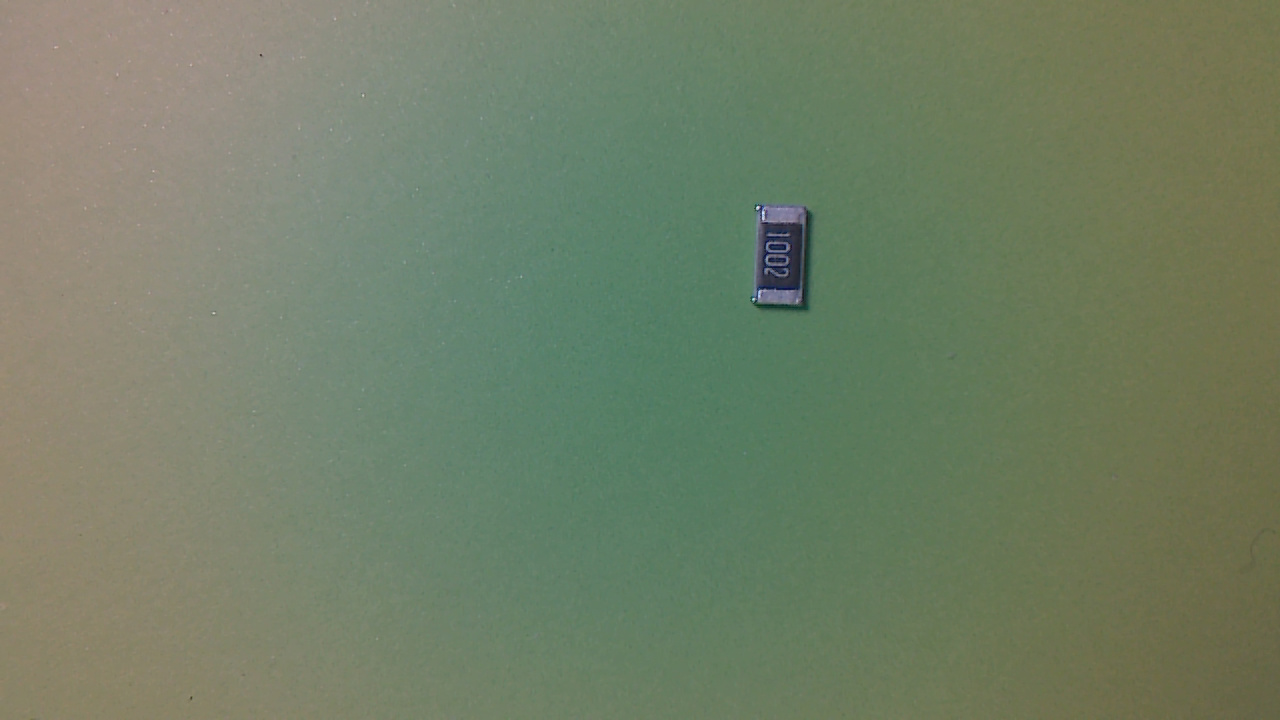Resistor: (753, 205, 820, 320)
